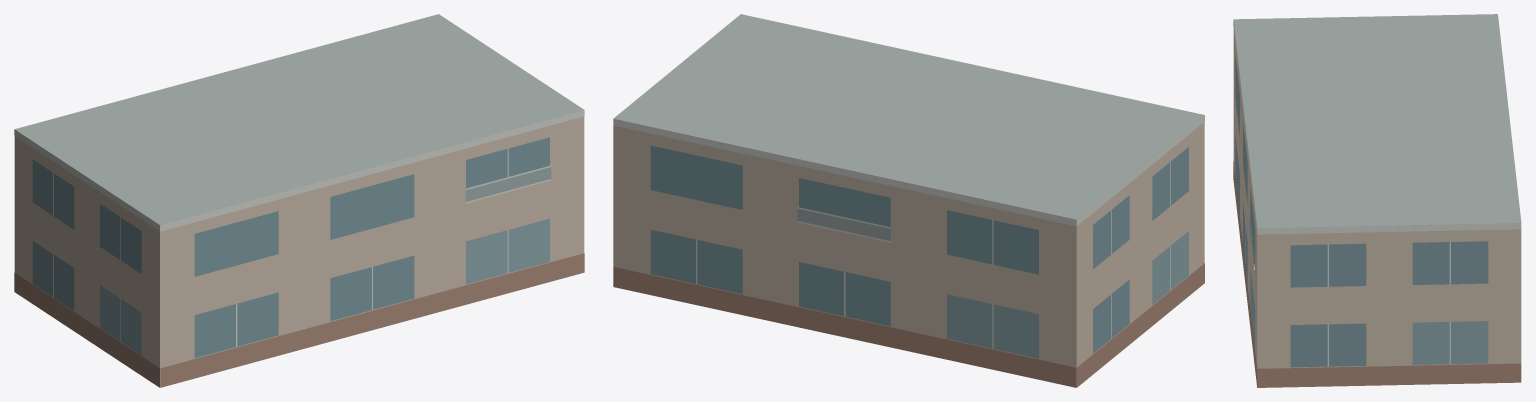
File: survey-upis-32705992.glb
3 views of the same model, side by side, from view 1: azimuth 30°, elevation 25°; view 2: azimuth 150°, elevation 25°; view 3: azimuth 270°, elevation 25° (orthographic). The views are drawn at different scales.
Parts seen in each view (by area): view 1: survey-upis-32705992.tmp; view 2: survey-upis-32705992.tmp; view 3: survey-upis-32705992.tmp.
Part boxes in pixels (left/top/right/bottom): survey-upis-32705992.tmp: left=14, top=14, right=584, bottom=387; survey-upis-32705992.tmp: left=613, top=14, right=1204, bottom=387; survey-upis-32705992.tmp: left=1233, top=14, right=1521, bottom=387.
Size of the model in its own units: 17.57 by 6.1 by 9.98.
